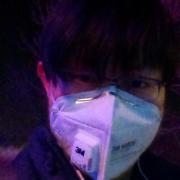OK: (48, 57, 162, 171)
